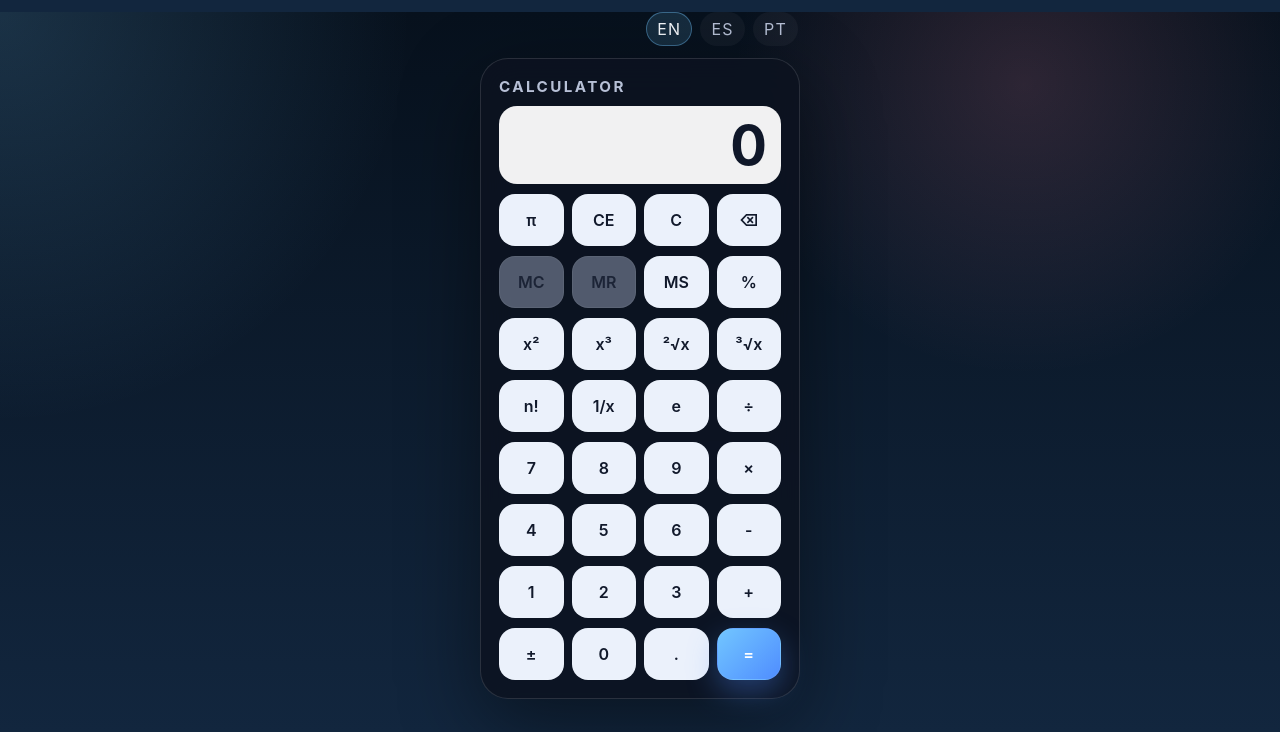
Test: Calculator › performs a simple addition flow
The image size is (1280, 732).
Click the button "2" at (604, 592), box [572,566,636,618]
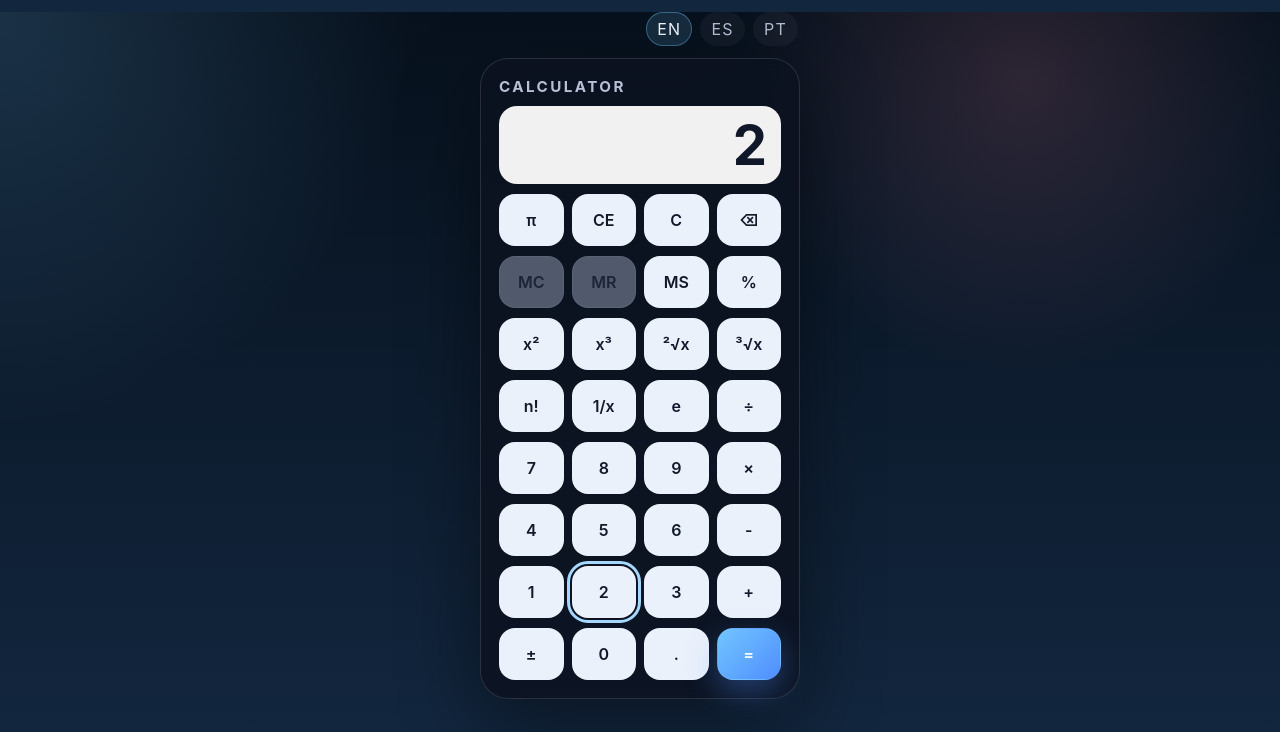
Click the button "+" at (749, 592), box [716,566,781,618]
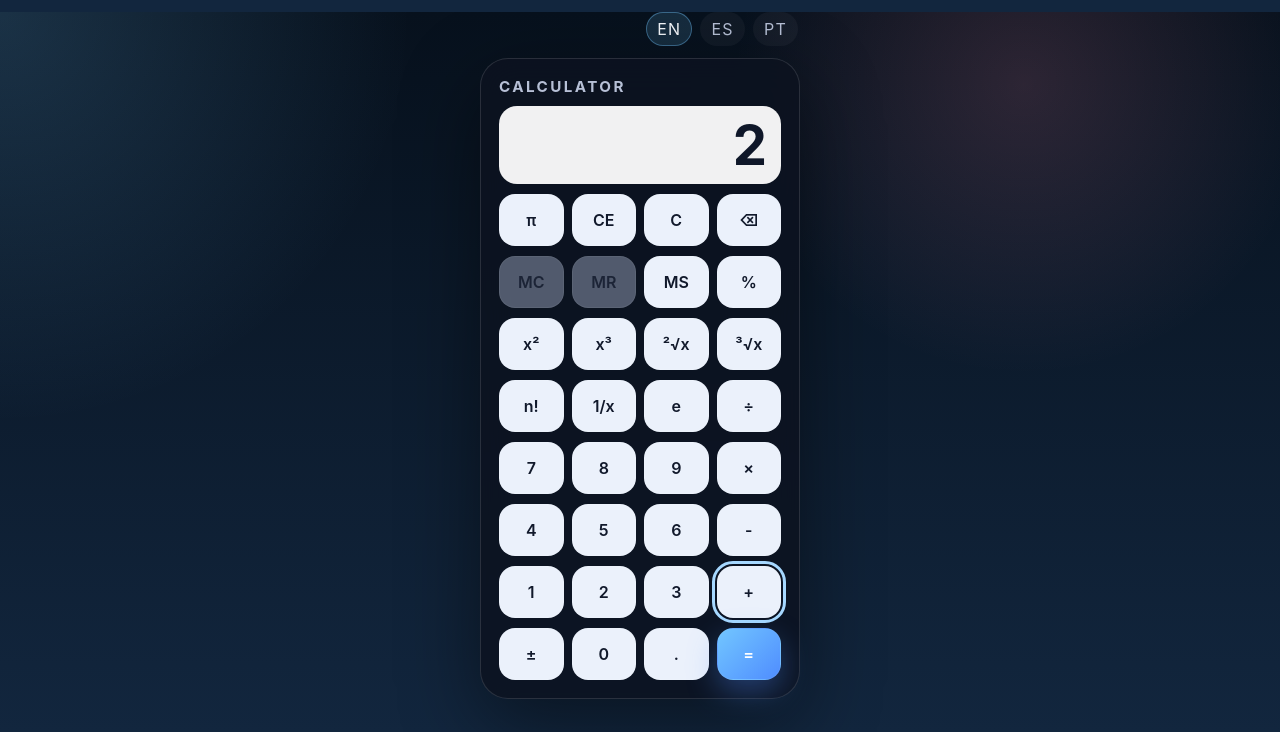
Click the button "3" at (676, 592), box [644,566,708,618]
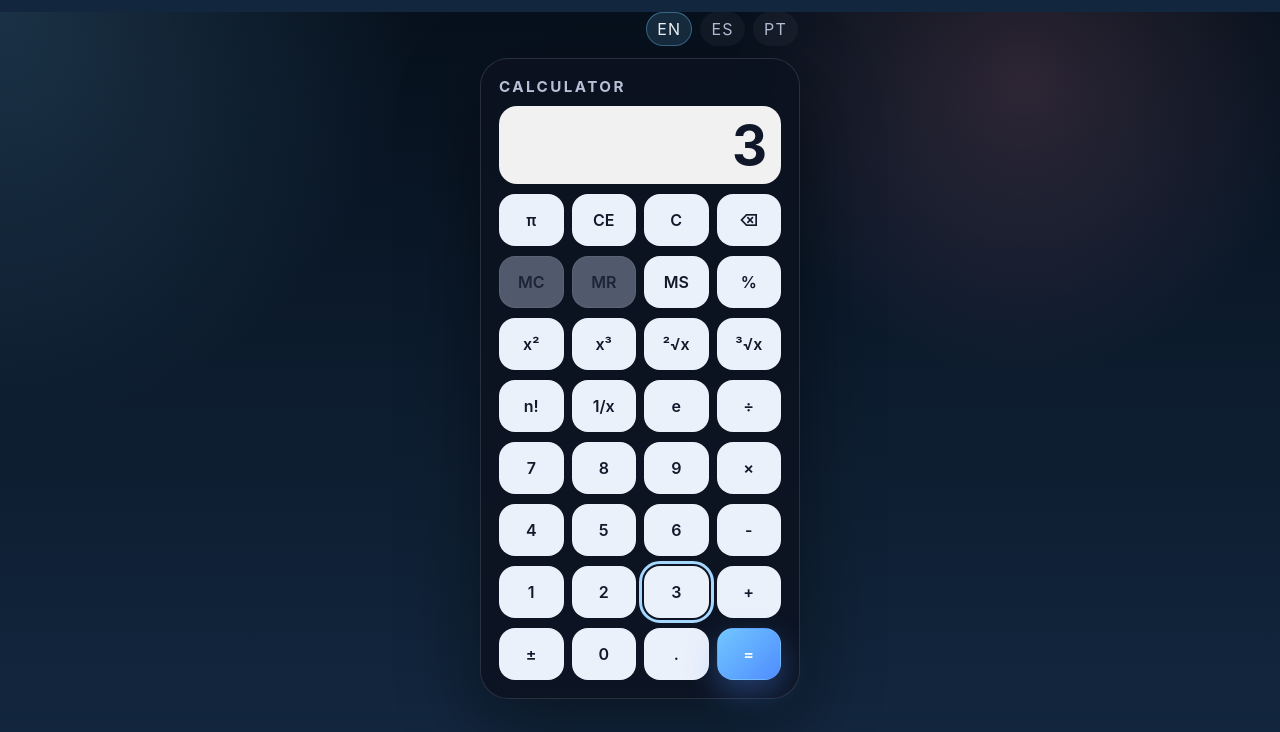
Click the button "=" at (749, 654), box [716,628,781,680]
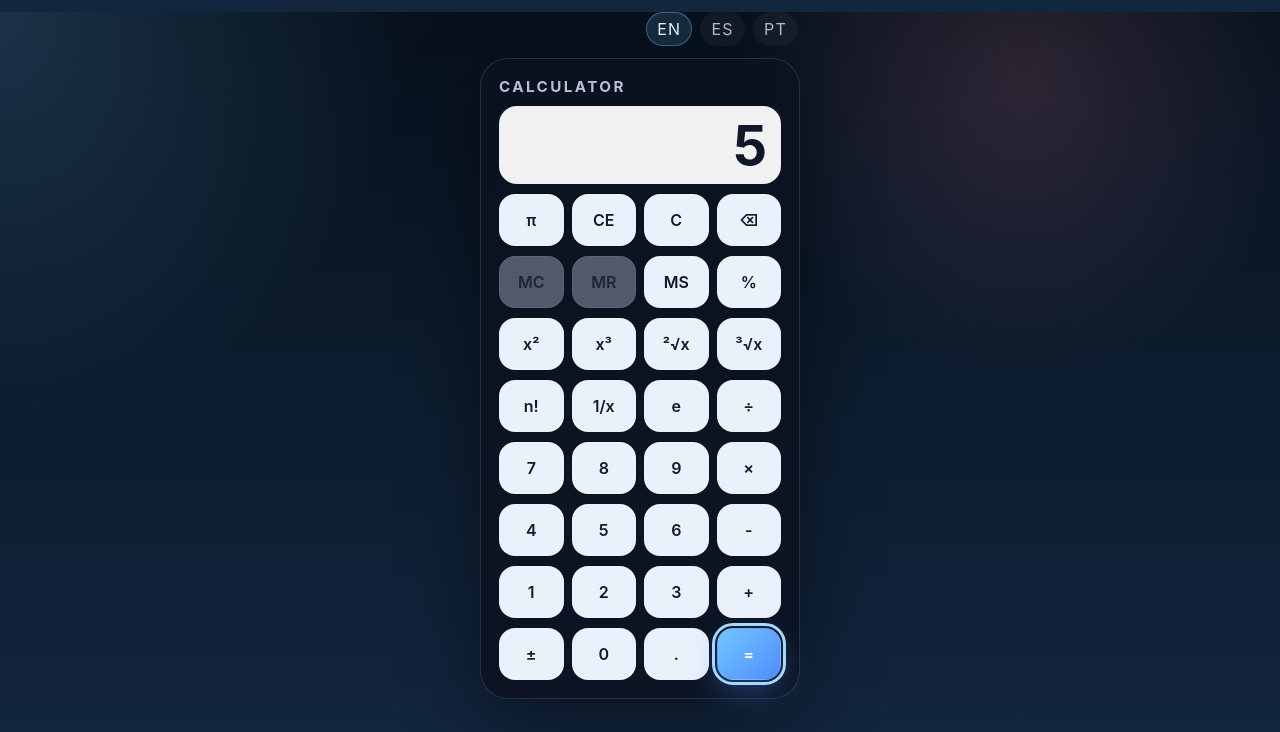
Check: the message reads "5", box [733,112,767,178]
